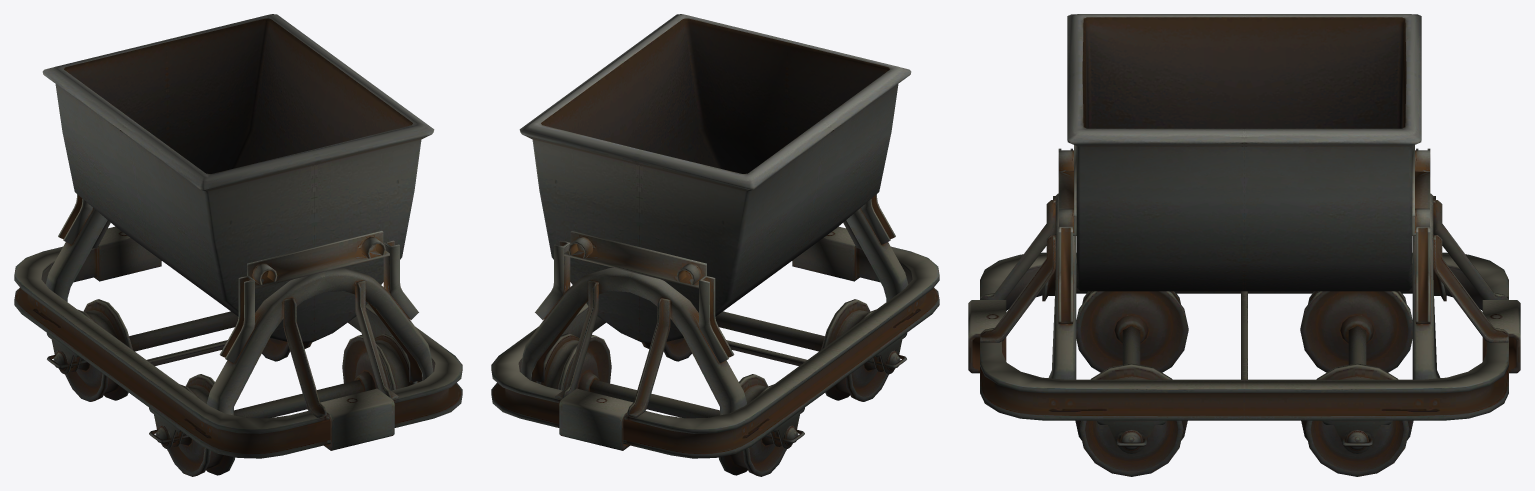
File: mine_cart.fbx
3 renders of one model, left to right at view 1: azimuth 30°, elevation 25°; view 2: azimuth 150°, elevation 25°; view 3: azimuth 270°, elevation 25°, orthographic. The views are drawn at different scales.
Visible parts, largest first — view 1: mine_cart002; view 2: mine_cart002; view 3: mine_cart002.
Boxes of the visible parts, x1,y1,x2,y2 form: mine_cart002: (14,14,462,476); mine_cart002: (491,14,939,476); mine_cart002: (968,14,1520,476).
Bounding box in the file's own units: 2.61 × 2.94 × 4.19.
